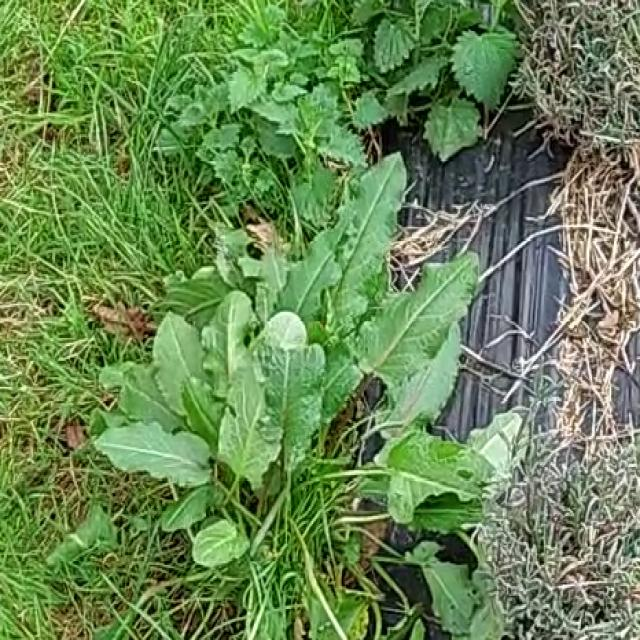organic waste: (67, 137, 503, 603)
